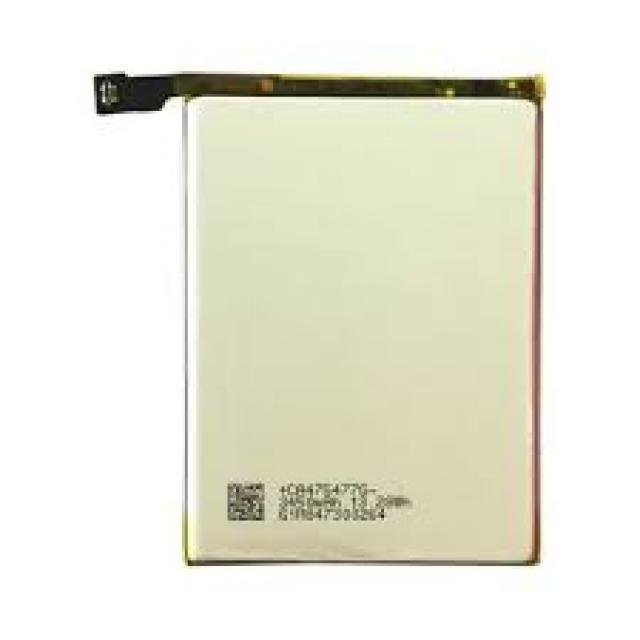battery: (93, 70, 543, 570)
